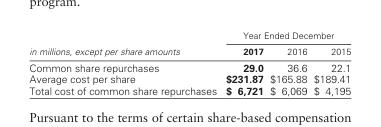table: (28, 28, 350, 96)
table column: (28, 28, 220, 96), (220, 28, 265, 96), (265, 28, 309, 96), (309, 28, 350, 96)
table column header: (28, 28, 350, 58)
table row: (28, 42, 350, 58), (28, 28, 350, 42), (28, 58, 350, 72), (28, 72, 350, 84), (28, 84, 350, 96)
table spanning cell: (28, 28, 220, 58), (220, 28, 350, 42)
